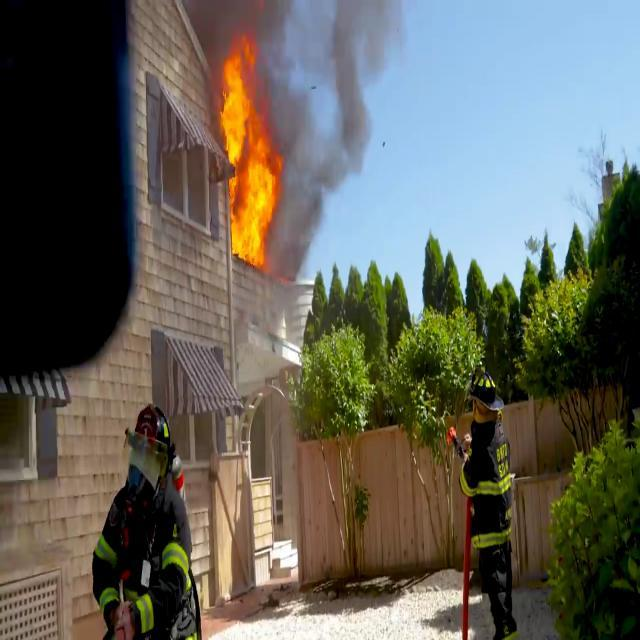Fire: (206, 28, 283, 266)
Smoke: (280, 12, 402, 282)
